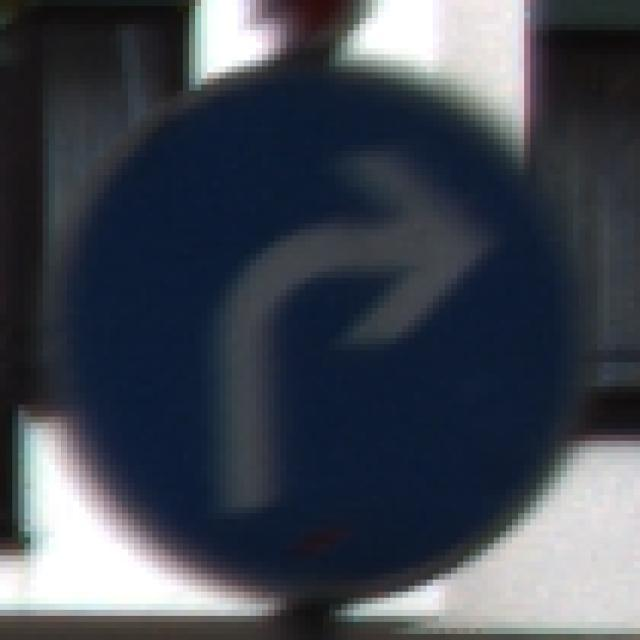compulsary turn right ahead: (68, 65, 578, 591)
